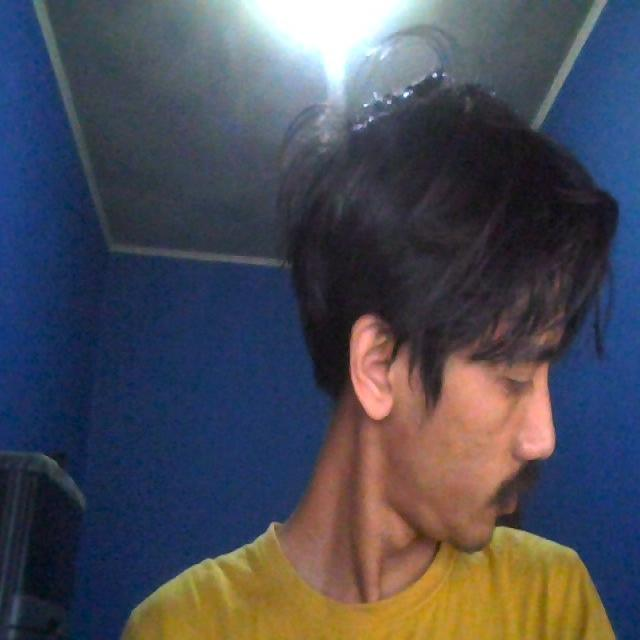melihat kekiri: (251, 74, 604, 568)
